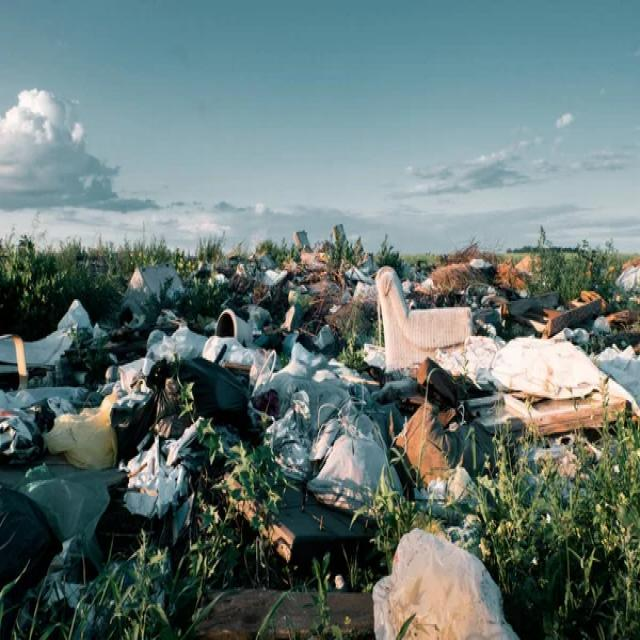garbage: (62, 208, 588, 618)
